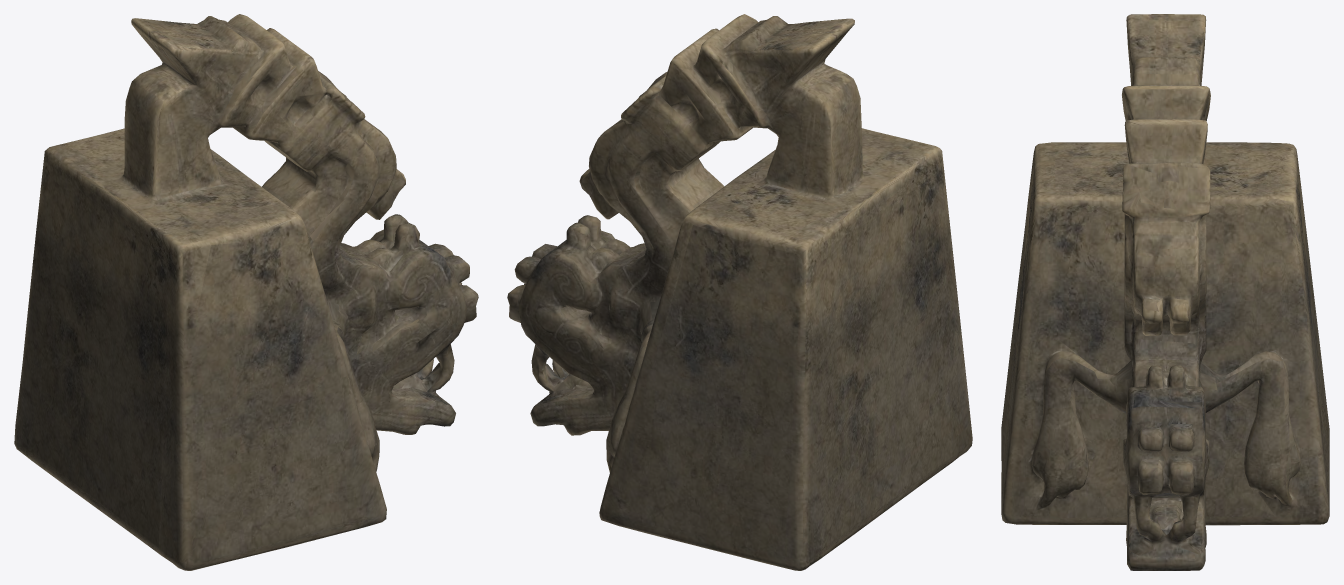
The model's file is serpent_head.gltf.
3 views of the same model, side by side, from view 1: azimuth 30°, elevation 25°; view 2: azimuth 150°, elevation 25°; view 3: azimuth 270°, elevation 25° (orthographic). The views are drawn at different scales.
Parts seen in each view (by area): view 1: serpent_head; view 2: serpent_head; view 3: serpent_head.
Part boxes in pixels (x1,y1,x2,y2): serpent_head: (14, 14, 478, 570); serpent_head: (507, 14, 972, 570); serpent_head: (1001, 14, 1329, 570).
Bounding box in the file's own units: 1.83 × 2.2 × 1.47.
1 material, 1 textured.
